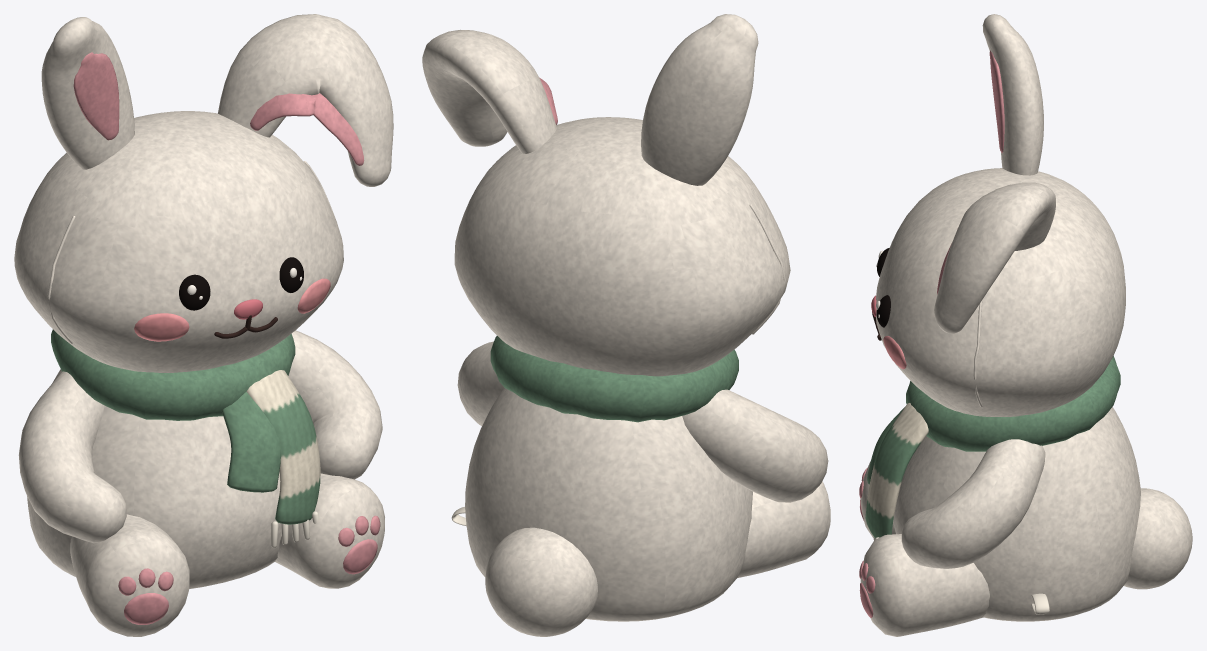
File: plush-bunny.glb
The picture shows the model from 3 angles, left to right: view 1: azimuth 30°, elevation 25°; view 2: azimuth 150°, elevation 25°; view 3: azimuth 270°, elevation 25°; orthographic projection. The views are drawn at different scales.
Visible parts, largest first — view 1: Bunny_Head, Bunny_Body, Bunny_Ear_L, Bunny_Arm_R, Bunny_ScarfCollar, Bunny_Leg_R, Bunny_Arm_L, Bunny_Ear_R, Bunny_Leg_L, Bunny_ScarfTail_Long, Bunny_ScarfTail_Short, Bunny_InnerEar_R (+7 smaller); view 2: Bunny_Head, Bunny_Body, Bunny_Ear_R, Bunny_Ear_L, Bunny_ScarfCollar, Bunny_Arm_R, Bunny_Tail, Bunny_Leg_R, Bunny_Arm_L; view 3: Bunny_Head, Bunny_Body, Bunny_Arm_L, Bunny_Ear_L, Bunny_Leg_L, Bunny_ScarfCollar, Bunny_Ear_R, Bunny_Tail, Bunny_ScarfTail_Long, Bunny_InnerEar_R.
Part boxes in pixels (x1,y1,x2,y2): Bunny_Head: (14,111,343,372); Bunny_Body: (27,369,281,588); Bunny_Ear_L: (218,14,393,186); Bunny_Arm_R: (18,371,126,543); Bunny_ScarfCollar: (51,329,295,420); Bunny_Leg_R: (70,514,189,636); Bunny_Arm_L: (288,330,382,479); Bunny_Ear_R: (41,17,134,169); Bunny_Leg_L: (275,473,384,588); Bunny_ScarfTail_Long: (246,370,320,524); Bunny_ScarfTail_Short: (221,392,280,492); Bunny_InnerEar_R: (73,52,119,140); Bunny_Head: (454,117,790,376); Bunny_Body: (465,388,752,621); Bunny_Ear_R: (641,14,758,185); Bunny_Ear_L: (422,29,556,153); Bunny_ScarfCollar: (490,336,738,422); Bunny_Arm_R: (682,389,828,502); Bunny_Tail: (485,527,597,636); Bunny_Leg_R: (737,481,830,577); Bunny_Arm_L: (457,341,504,425); Bunny_Head: (876,168,1125,416); Bunny_Body: (893,407,1140,621); Bunny_Arm_L: (901,439,1045,568); Bunny_Ear_L: (934,182,1055,333); Bunny_Leg_L: (860,534,989,636); Bunny_ScarfCollar: (906,356,1120,451); Bunny_Ear_R: (982,14,1043,175); Bunny_Tail: (1124,488,1192,589); Bunny_ScarfTail_Long: (865,403,928,538); Bunny_InnerEar_R: (989,50,1004,153).
Bounding box in the file's own units: 0.3869 × 0.5752 × 0.3309.
10 materials, 5 textured.
